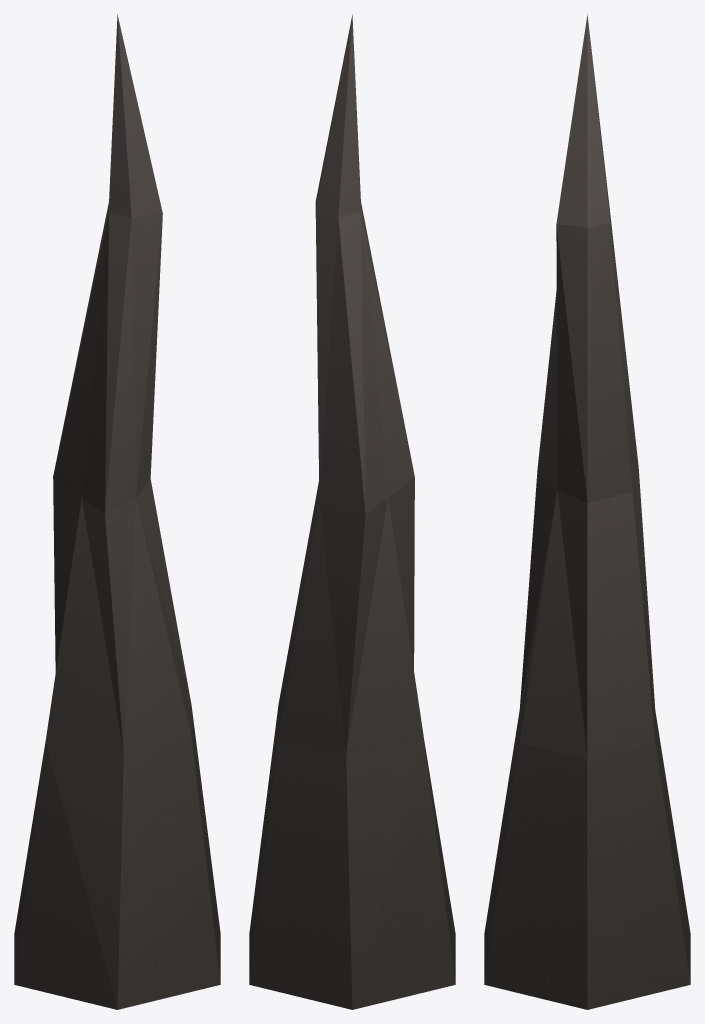
File: Stal_10B.fbx
3 views of the same model, side by side, from view 1: azimuth 30°, elevation 25°; view 2: azimuth 150°, elevation 25°; view 3: azimuth 270°, elevation 25° (orthographic).
Parts seen in each view (by area): view 1: pCone21; view 2: pCone21; view 3: pCone21.
Boxes of the visible parts, <box> form: pCone21: <box>14,14,220,1009</box>; pCone21: <box>249,14,455,1009</box>; pCone21: <box>484,14,690,1009</box>.
Size of the model in its own units: 343 by 1500 by 297.
Materials: 1 (1 with a texture image).
